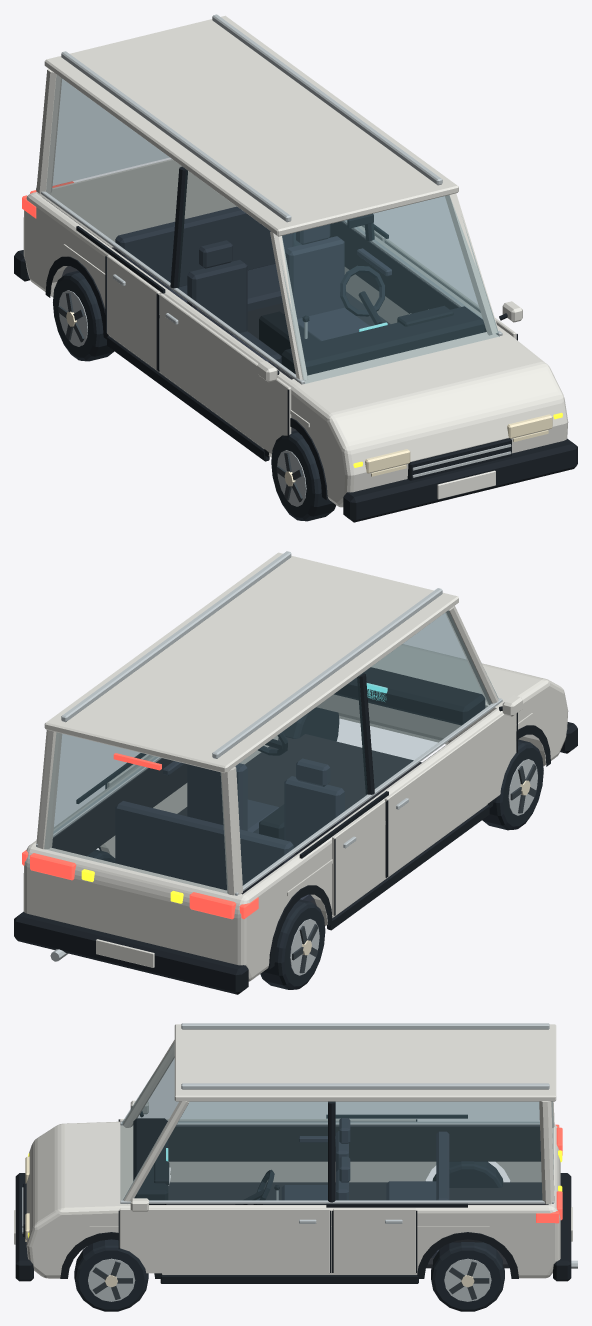
File: Car_Van.fbx
3 views of the same model, one above another, from view 1: azimuth 30°, elevation 25°; view 2: azimuth 150°, elevation 25°; view 3: azimuth 270°, elevation 25° (orthographic). The views are drawn at different scales.
Parts seen in each view (by area): view 1: WindowCabin.004, Body.004, Roof.004, DoorPanel_FR.004, RearSeatBack.003, FrontBumper.004, Dashboard.004, DoorPanel_RR.004, SeatBack.008, DoorTrim.008, SeatBack.009, Tire_FR.004 (+25 smaller); view 2: WindowCabin.004, Roof.004, Body.004, DoorPanel_FR.004, RearSeatBack.003, CabinFloor.004, RearBumper.004, DoorPanel_RR.004, Dashboard.004, DoorTrim.008, SeatBack.009, SeatBack.008 (+22 smaller); view 3: WindowCabin.004, Body.004, Roof.004, DoorPanel_FL.004, DoorTrim.009, DoorPanel_RL.004, CabinFloor.004, Tire_RL.004, Tire_FL.004, RoofRail.002, RoofRail.003, SideSkirt_L.004 (+21 smaller).
Boxes of the visible parts, x1,y1,x2,y2 form: WindowCabin.004: (46,75,499,383); Body.004: (23,159,568,507); Roof.004: (44,15,458,236); DoorPanel_FR.004: (160,293,291,453); RearSeatBack.003: (115,206,293,289); FrontBumper.004: (343,438,577,522); Dashboard.004: (281,306,485,375); DoorPanel_RR.004: (107,255,160,369); SeatBack.008: (284,236,344,318); DoorTrim.008: (329,221,486,331); SeatBack.009: (187,260,247,335); Tire_FR.004: (271,430,336,521); WindowCabin.004: (44,610,498,893); Roof.004: (44,552,458,773); Body.004: (23,644,568,981); DoorPanel_FR.004: (384,712,516,876); RearSeatBack.003: (115,801,293,894); CabinFloor.004: (177,734,421,905); RearBumper.004: (14,911,248,994); DoorPanel_RR.004: (332,800,385,915); Dashboard.004: (334,667,485,725); DoorTrim.008: (51,758,187,856); SeatBack.009: (284,776,344,852); SeatBack.008: (187,763,247,830); WindowCabin.004: (120,1043,553,1200); Body.004: (26,1121,560,1278); Roof.004: (174,1024,556,1101); DoorPanel_FL.004: (119,1208,329,1273); DoorTrim.009: (168,1125,540,1161); DoorPanel_RL.004: (333,1208,415,1273); CabinFloor.004: (166,1182,548,1268); Tire_RL.004: (431,1242,504,1311); Tire_FL.004: (74,1239,148,1311); RoofRail.002: (181,1023,549,1029); RoofRail.003: (181,1083,549,1089); SideSkirt_L.004: (160,1275,418,1283).
Size of the model in its own units: 2.22 by 2.16 by 5.18.
